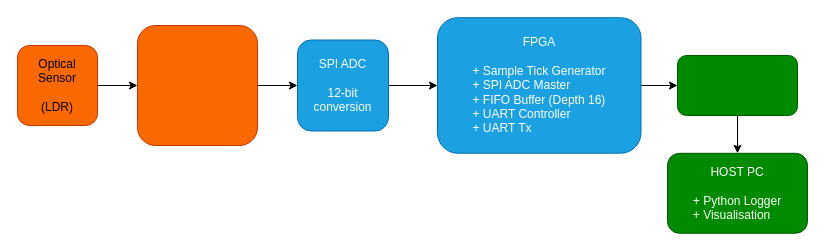
This 825x251 diagram has some shape labels left out. The shapes that lost their labels are listed below. From the top down, each one's box as (x1, y1, x2, y2) in pixels, then its label:
(136, 24, 258, 146): Analog Front-End - Voltage Divider - RC Filter (100Hz)
(676, 54, 798, 116): UART Interface 115200 baud
